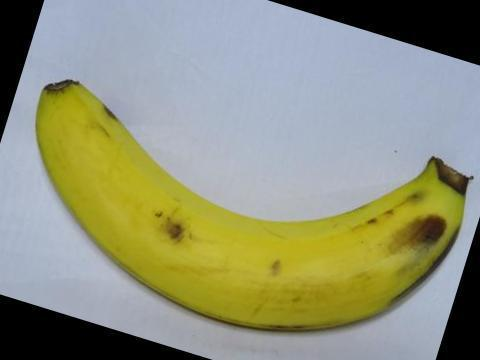freshripe: (22, 70, 478, 344)
